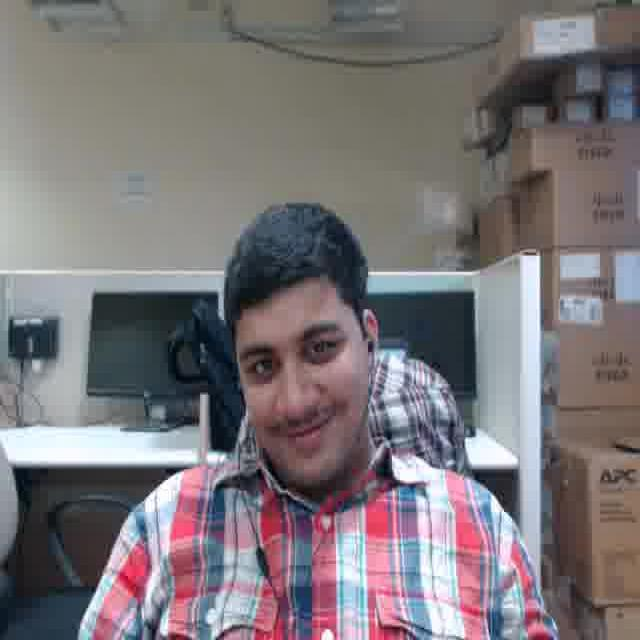Engaged: (233, 283, 362, 476)
